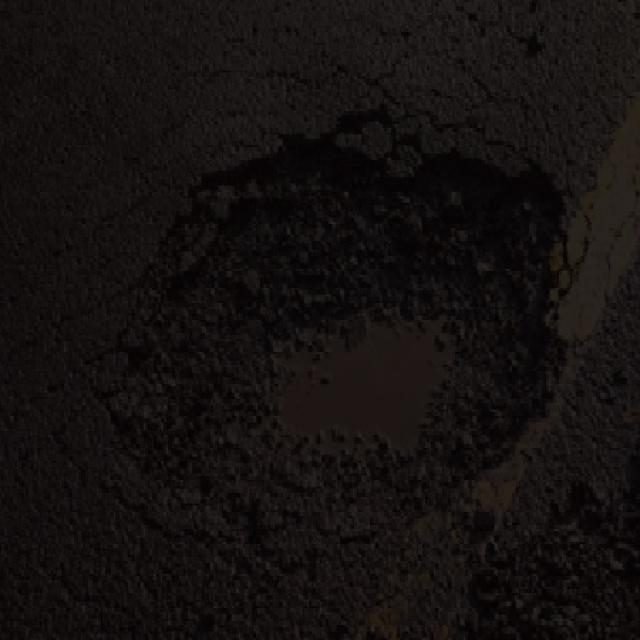Pothole: (81, 90, 571, 538)
